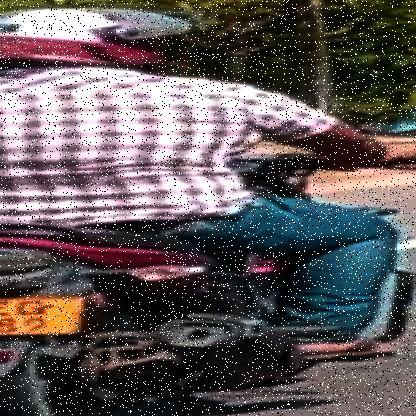motorcycle: (0, 213, 416, 416)
